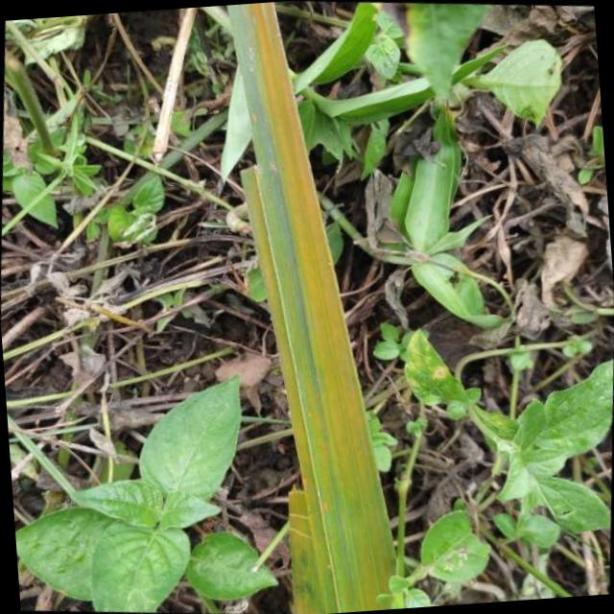Megnesium: (210, 0, 402, 614)
